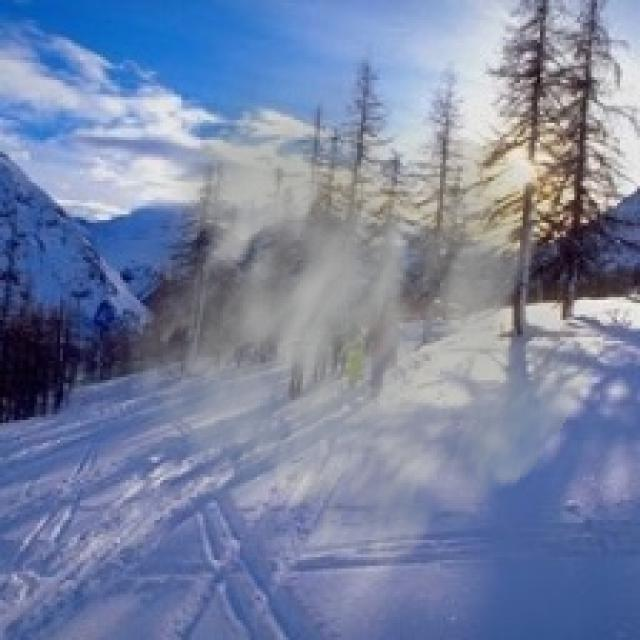Smoke: (97, 34, 617, 586)
